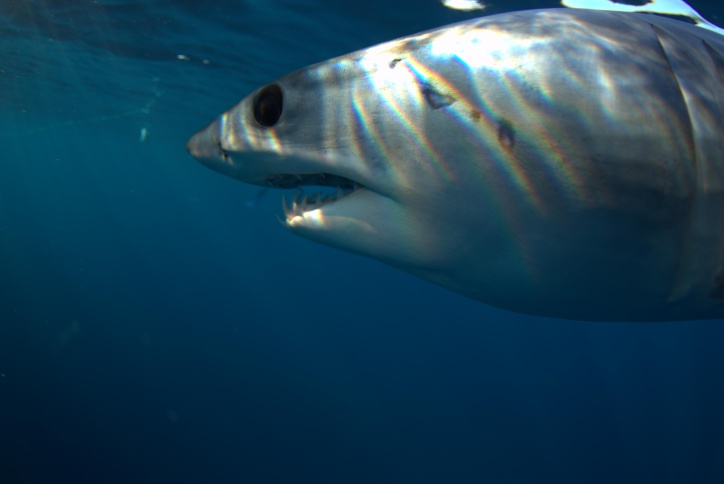Mako: (181, 3, 724, 318)
